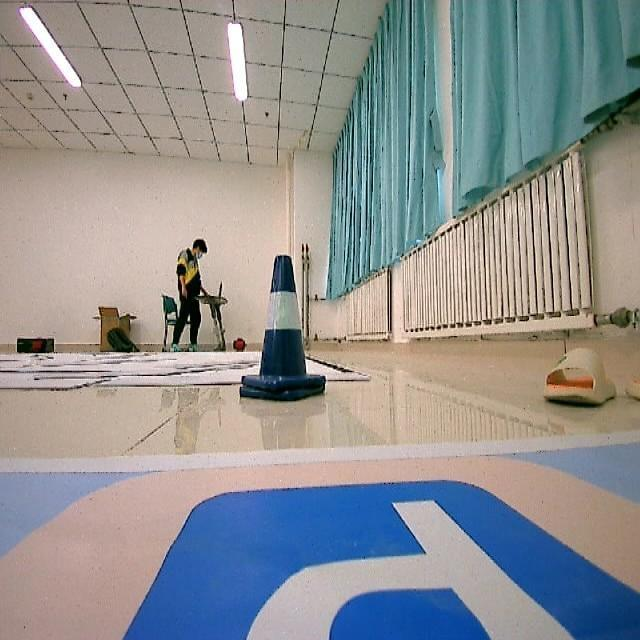obstacle: (236, 248, 334, 412)
